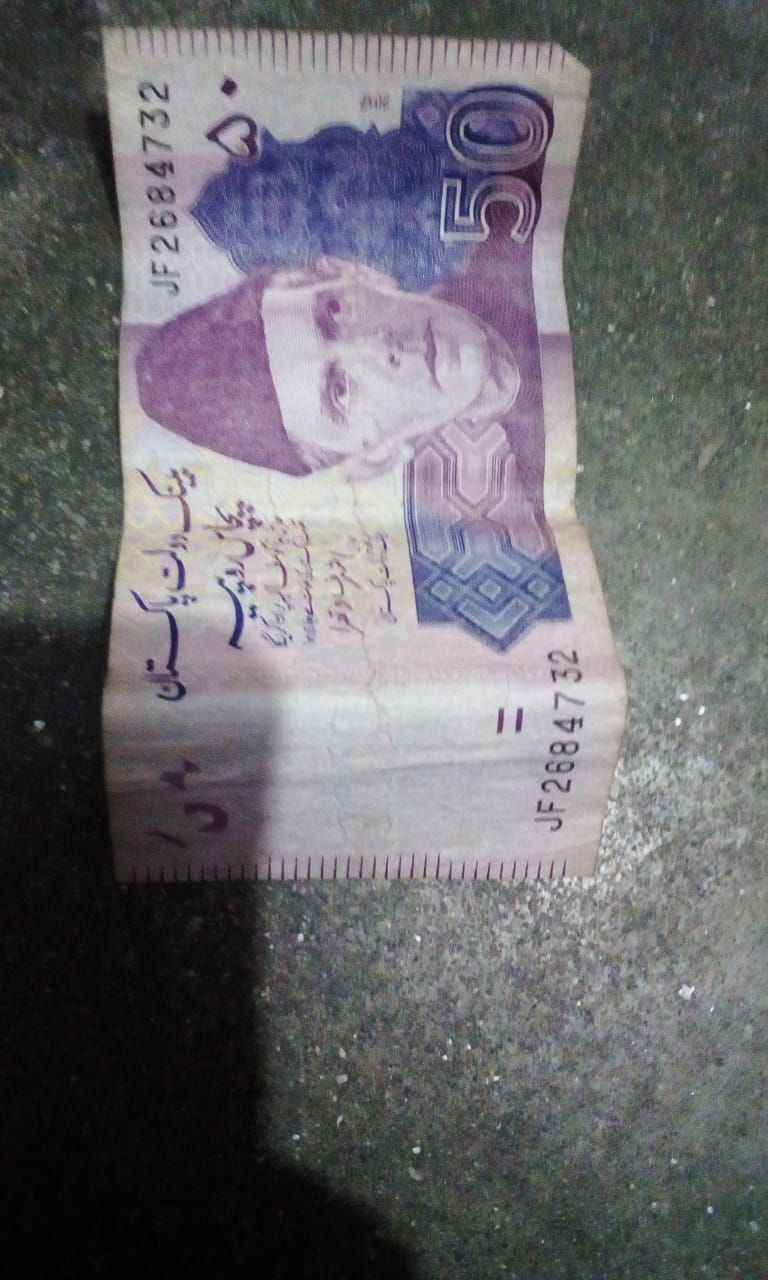50 rupee: (68, 19, 651, 893)
